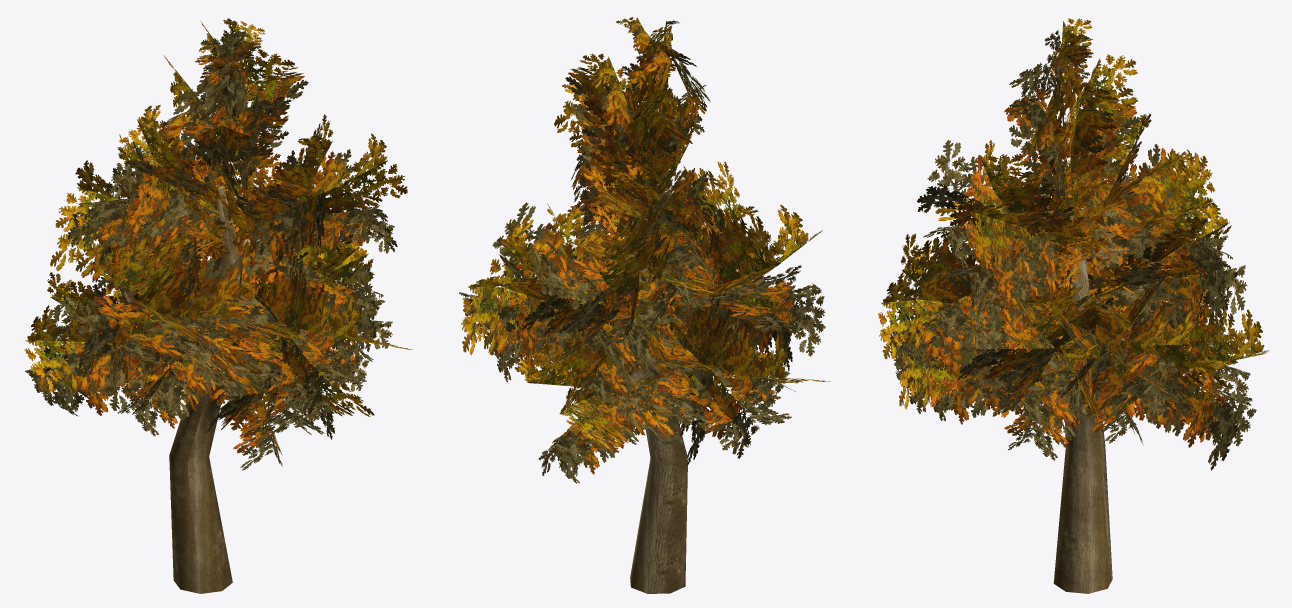
File: mmc-trees-flowers-grass.fbx
The picture shows the model from 3 angles, left to right: view 1: azimuth 30°, elevation 25°; view 2: azimuth 150°, elevation 25°; view 3: azimuth 270°, elevation 25°; orthographic projection.
Visible parts, largest first — view 1: tree_stylized_04_green_3; view 2: tree_stylized_04_green_3; view 3: tree_stylized_04_green_3.
Part boxes in pixels (x1,y1,x2,y2): tree_stylized_04_green_3: [24, 18, 412, 593]; tree_stylized_04_green_3: [459, 17, 830, 593]; tree_stylized_04_green_3: [878, 18, 1268, 593].
Bounding box in the file's own units: 967 × 1465 × 956.
Materials: 2 (2 with a texture image).
